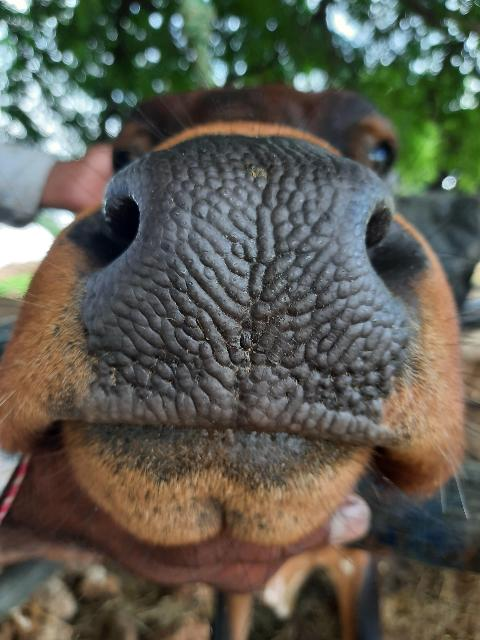Muzzle: (147, 150, 364, 428)
